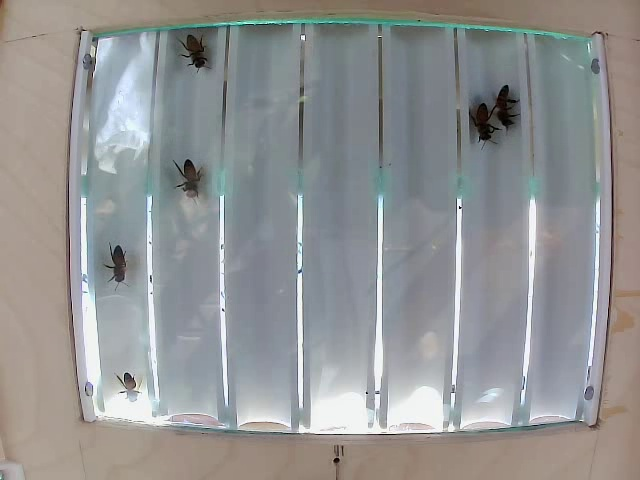bee: (169, 152, 214, 201), (175, 29, 211, 72), (98, 238, 128, 287), (492, 82, 521, 129), (471, 97, 494, 140), (118, 367, 136, 405)
